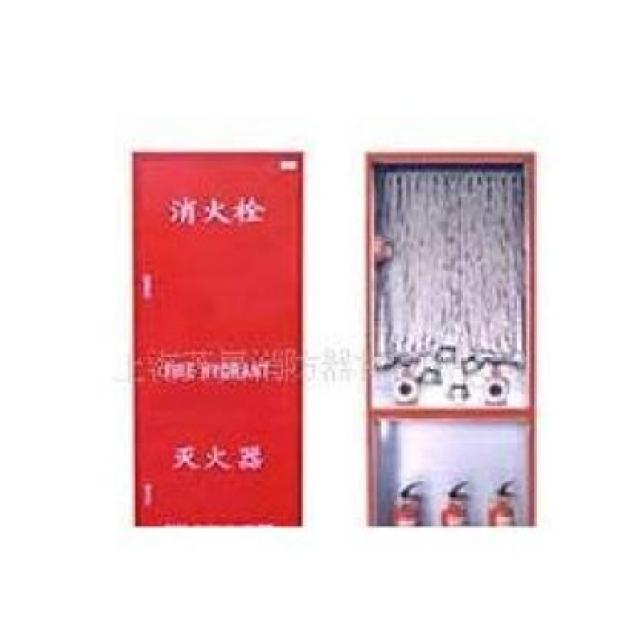firehydrant: (358, 144, 542, 536), (128, 144, 308, 532)
